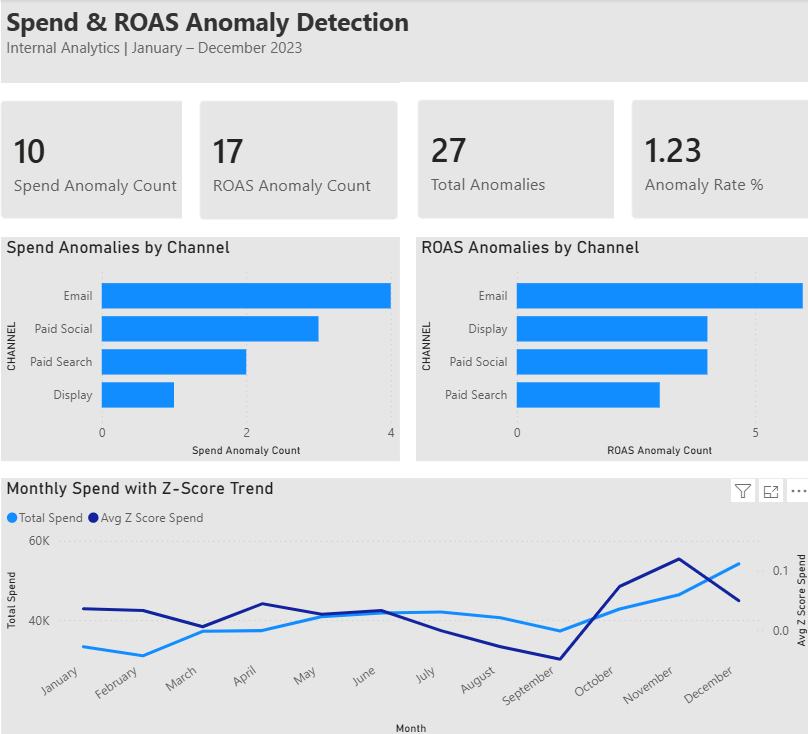

This screenshot's page, from the dashboard's own definition file:
{"tool":"powerbi","page":{"name":"Anomaly & Alerts","canvas":[1280,720],"ordinal":2},"visuals":[{"type":"textbox","box":[17.5,0,788.8,81.7],"z":0},{"type":"cardVisual","fields":{"Data":["FACT_CAMPAIGN_PERFORMANCE.Spend Anomaly Count"]},"box":[0,81.7,218.8,149.8],"z":1000},{"type":"cardVisual","fields":{"Data":["FACT_CAMPAIGN_PERFORMANCE.ROAS Anomaly Count"]},"box":[193.6,81.7,227.6,150.8],"z":2000},{"type":"cardVisual","fields":{"Data":["FACT_CAMPAIGN_PERFORMANCE.Total Anomalies"]},"box":[405.6,80.7,234.4,150.8],"z":3000},{"type":"cardVisual","fields":{"Data":["FACT_CAMPAIGN_PERFORMANCE.Anomaly Rate %"]},"box":[613.7,80.7,213,150.8],"z":4000},{"type":"clusteredBarChart","title":"Spend Anomalies by Channel","fields":{"Category":["DIM_CHANNEL.CHANNEL"],"Y":["FACT_CAMPAIGN_PERFORMANCE.Spend Anomaly Count"]},"box":[17.5,231.5,388.1,217.9],"z":5000},{"type":"clusteredBarChart","title":"ROAS Anomalies by Channel","fields":{"Category":["FACT_CAMPAIGN_PERFORMANCE.CHANNEL"],"Y":["FACT_CAMPAIGN_PERFORMANCE.ROAS Anomaly Count"]},"box":[421.2,231.5,385.2,217.9],"z":6000},{"type":"lineChart","title":"Monthly Spend with Z-Score Trend","fields":{"Category":["DIM_DATE.MONTH_NAME"],"Y":["FACT_CAMPAIGN_PERFORMANCE.Total Spend"],"Y2":["FACT_CAMPAIGN_PERFORMANCE.Avg Z Score Spend"]},"box":[17.5,465.9,788.8,236.4],"z":7000}]}

Visuals, with their boxes on the page's 1280x720 design canvas (x1, y1, x2, y2). These are canvas units, not pixel positions in the 808x734 screenshot, which may show the page scaled, cropped or inside an application window:
textbox: <region>18, 0, 806, 82</region>
cardVisual - FACT_CAMPAIGN_PERFORMANCE.Spend Anomaly Count: <region>0, 82, 219, 232</region>
cardVisual - FACT_CAMPAIGN_PERFORMANCE.ROAS Anomaly Count: <region>194, 82, 421, 232</region>
cardVisual - FACT_CAMPAIGN_PERFORMANCE.Total Anomalies: <region>406, 81, 640, 232</region>
cardVisual - FACT_CAMPAIGN_PERFORMANCE.Anomaly Rate %: <region>614, 81, 827, 232</region>
"Spend Anomalies by Channel" clusteredBarChart: <region>18, 232, 406, 449</region>
"ROAS Anomalies by Channel" clusteredBarChart: <region>421, 232, 806, 449</region>
"Monthly Spend with Z-Score Trend" lineChart: <region>18, 466, 806, 702</region>
